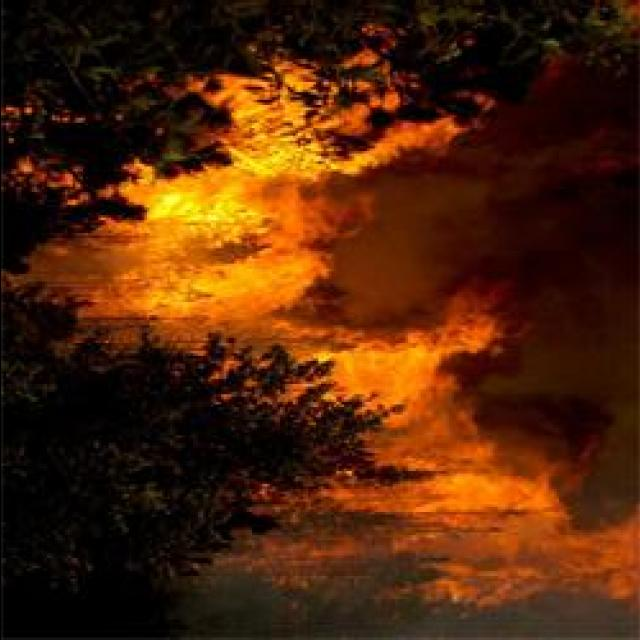fire: (96, 160, 314, 328), (338, 311, 507, 513), (428, 469, 636, 601), (205, 68, 382, 194)
smoke: (472, 141, 638, 529)
